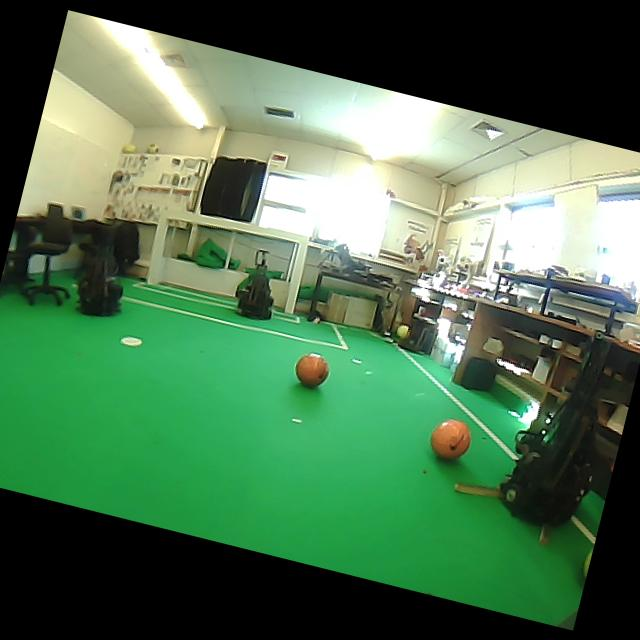ball: (430, 418, 470, 459), (295, 352, 329, 387), (395, 324, 409, 338), (121, 142, 136, 153), (146, 143, 158, 153)
goal: (283, 236, 308, 313), (146, 215, 169, 284)
robot: (500, 333, 611, 526), (78, 246, 123, 316), (236, 249, 272, 319)
